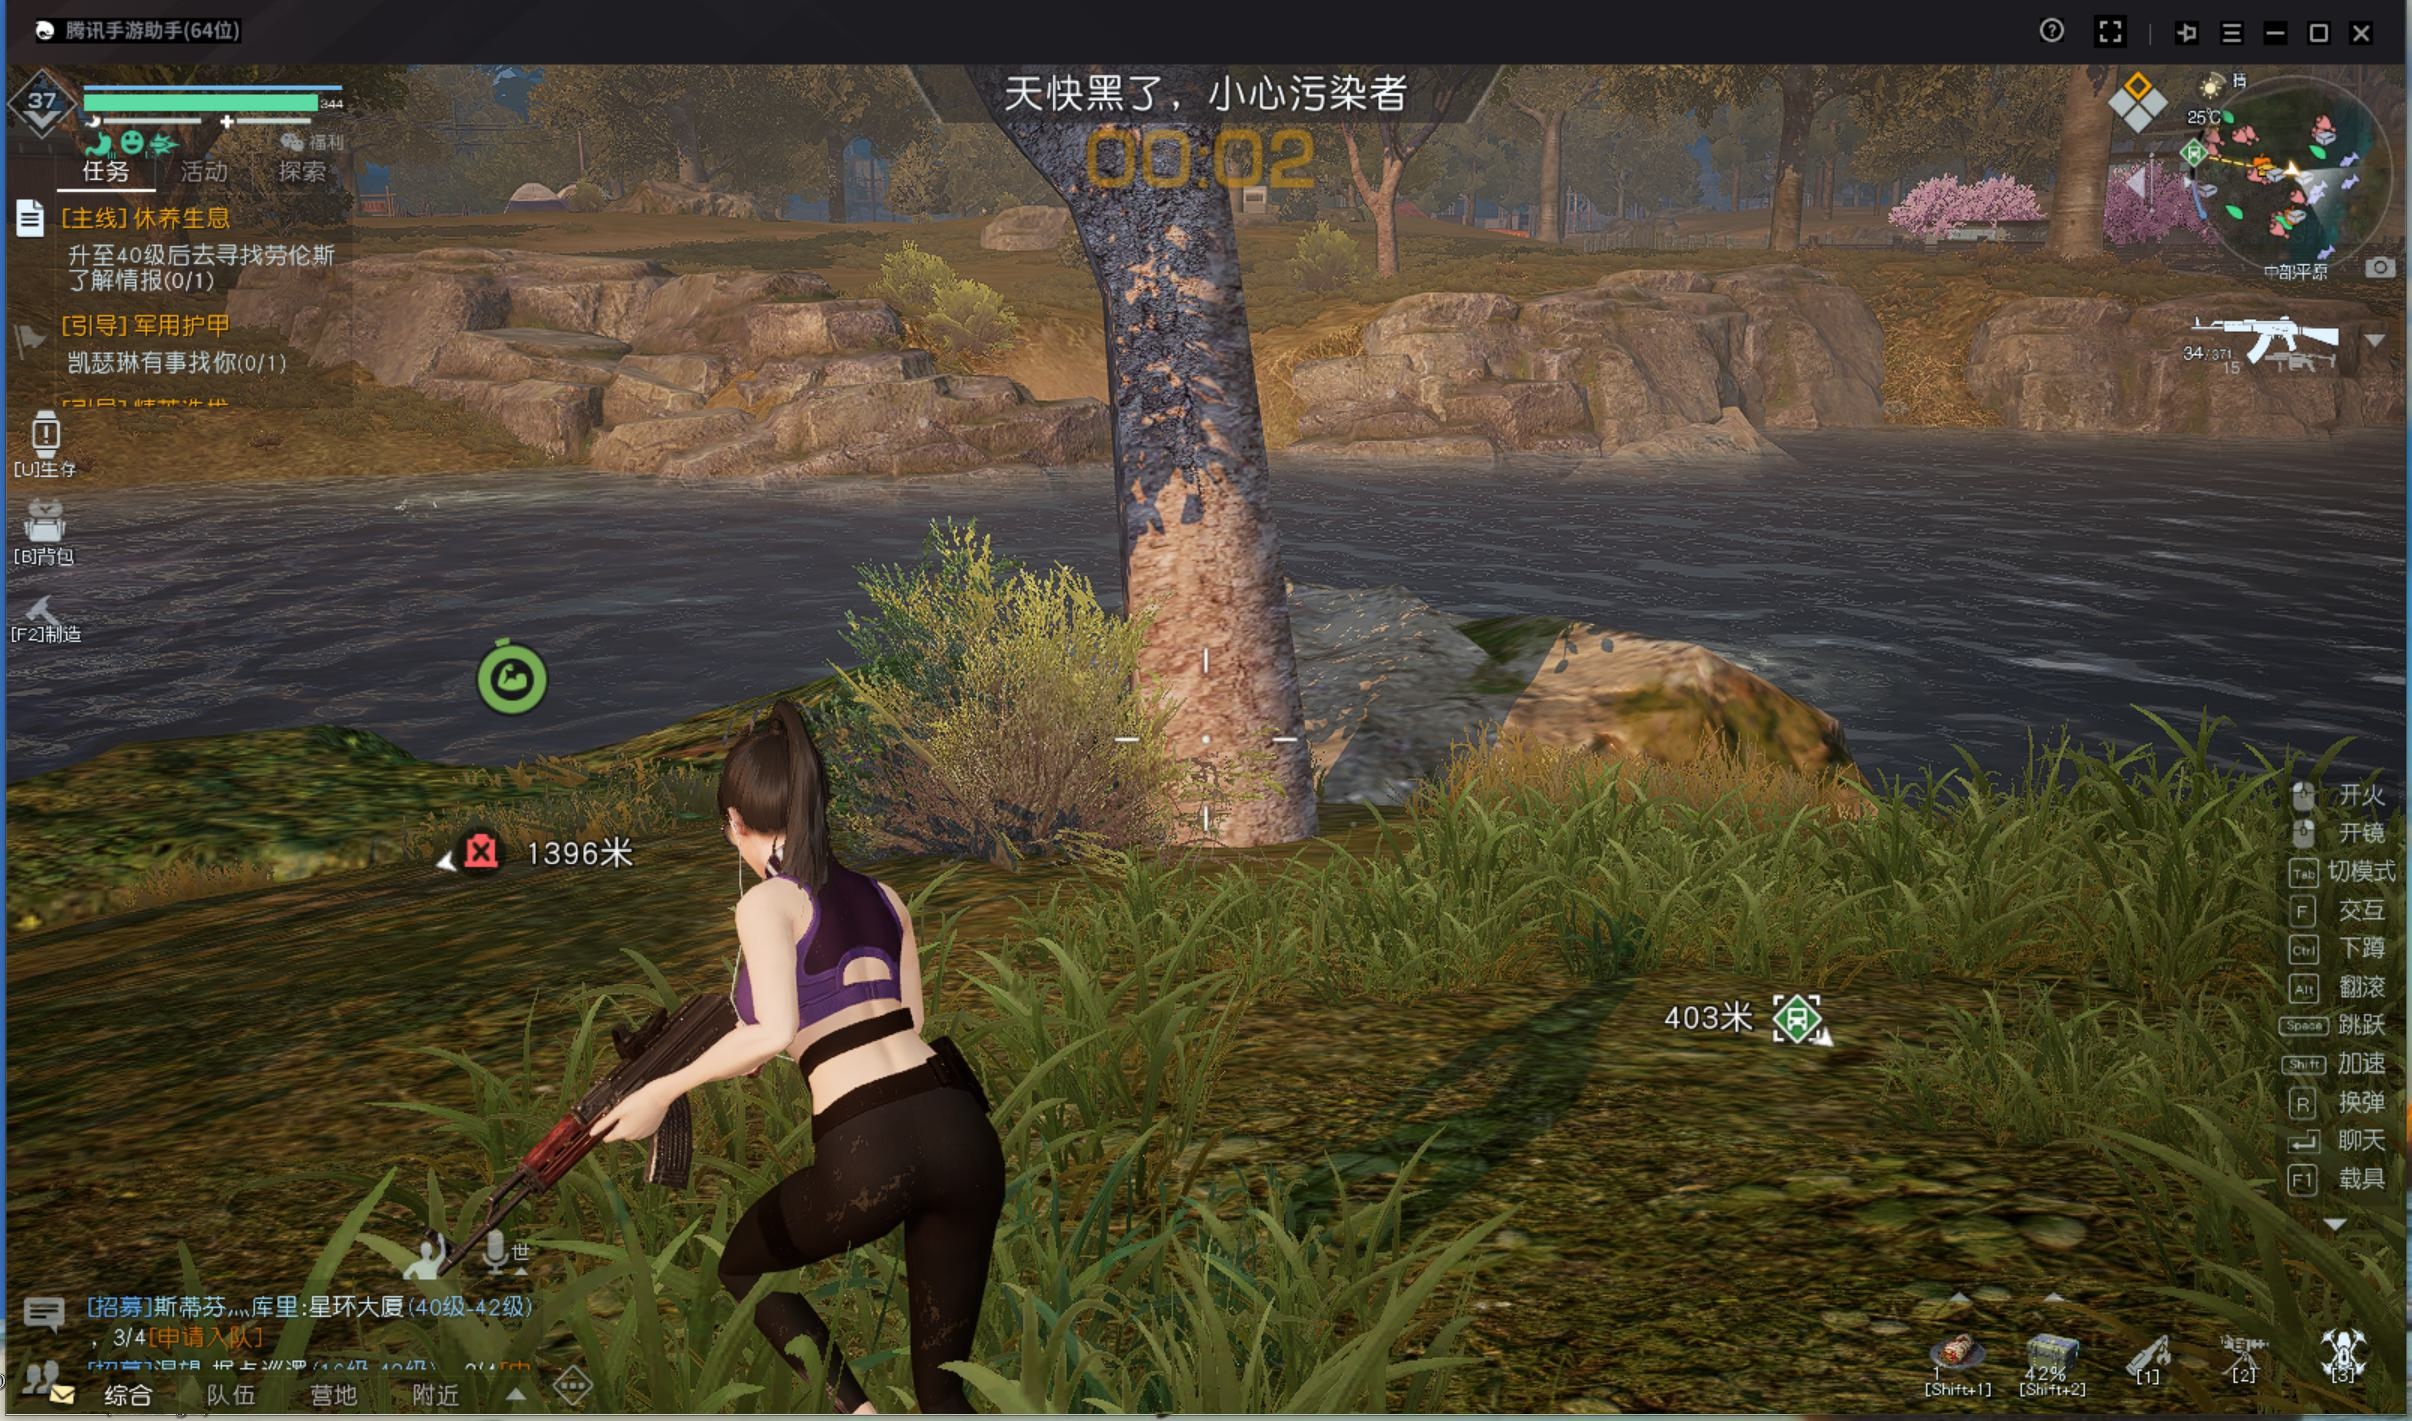tree: (1059, 269, 1345, 846)
